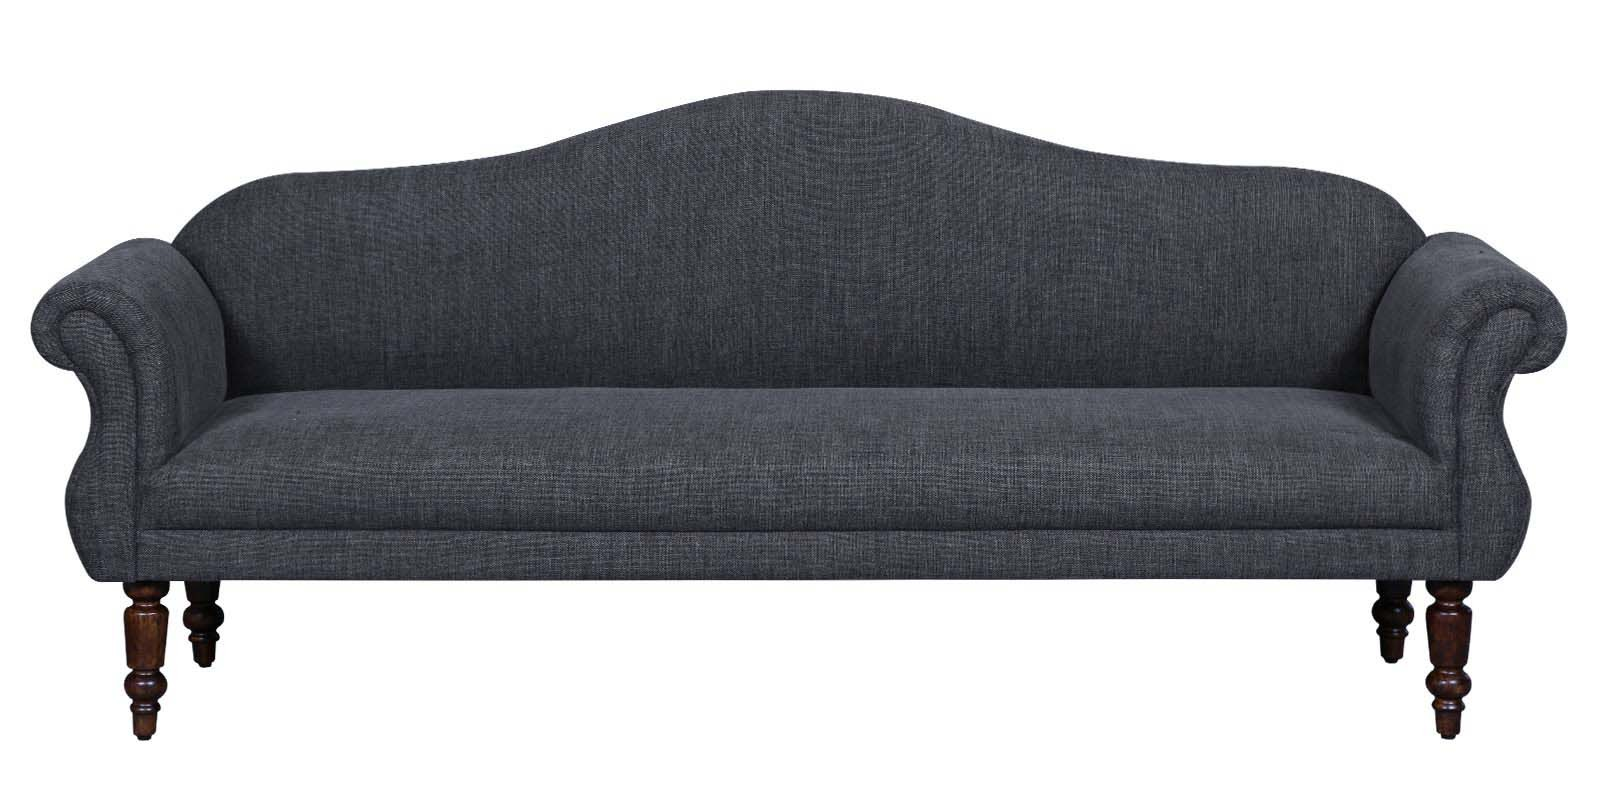Harleston Three Seater Sofa in Provincial Teak Finish by Amberville: (39, 72, 1587, 799)
